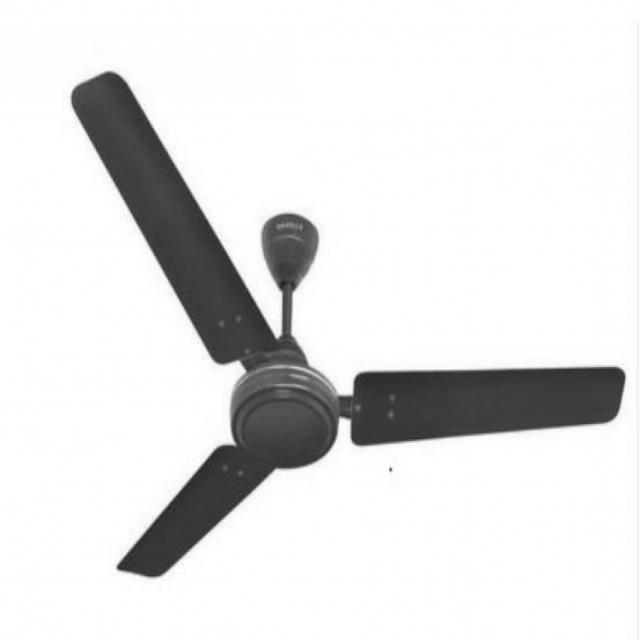fan: (69, 69, 626, 578)
